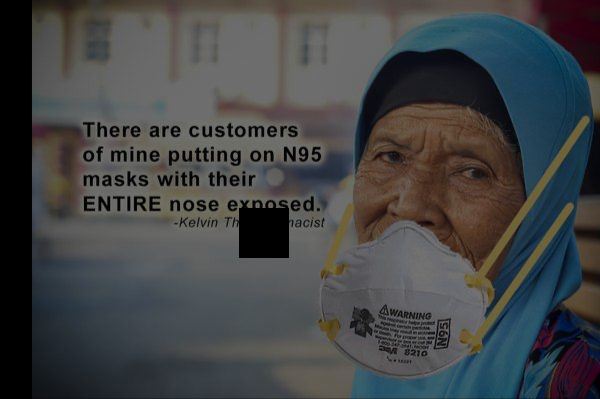mask_weared_incorrect: (350, 127, 517, 306)
